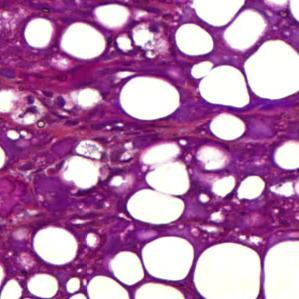steatosis: (120, 72, 181, 124), (58, 19, 107, 59), (34, 226, 82, 264)
